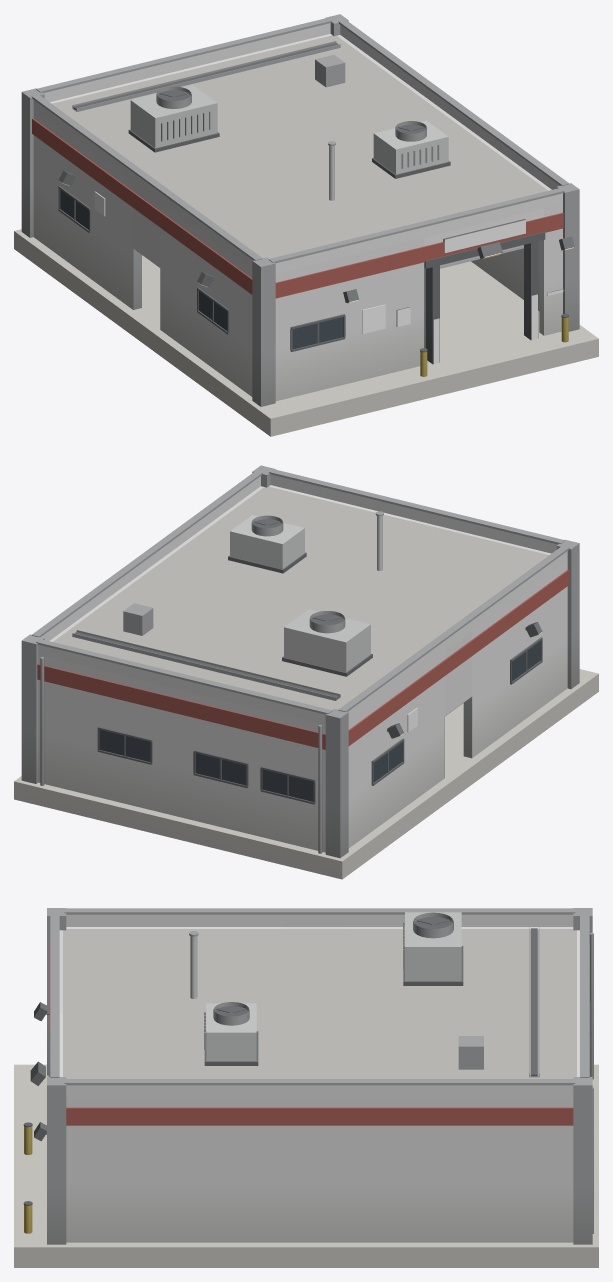
Rendered from medical.glb.
The picture shows the model from 3 angles, top to bottom: view 1: azimuth 30°, elevation 25°; view 2: azimuth 150°, elevation 25°; view 3: azimuth 270°, elevation 25°; orthographic projection. The views are drawn at different scales.
Parts seen in each view (by area): view 1: medical; view 2: medical; view 3: medical.
Part boxes in pixels (x1,y1,x2,y2): medical: [14, 14, 598, 436]; medical: [14, 465, 598, 879]; medical: [14, 908, 598, 1267].
Size of the model in its own units: 13.98 by 8.06 by 18.55.
